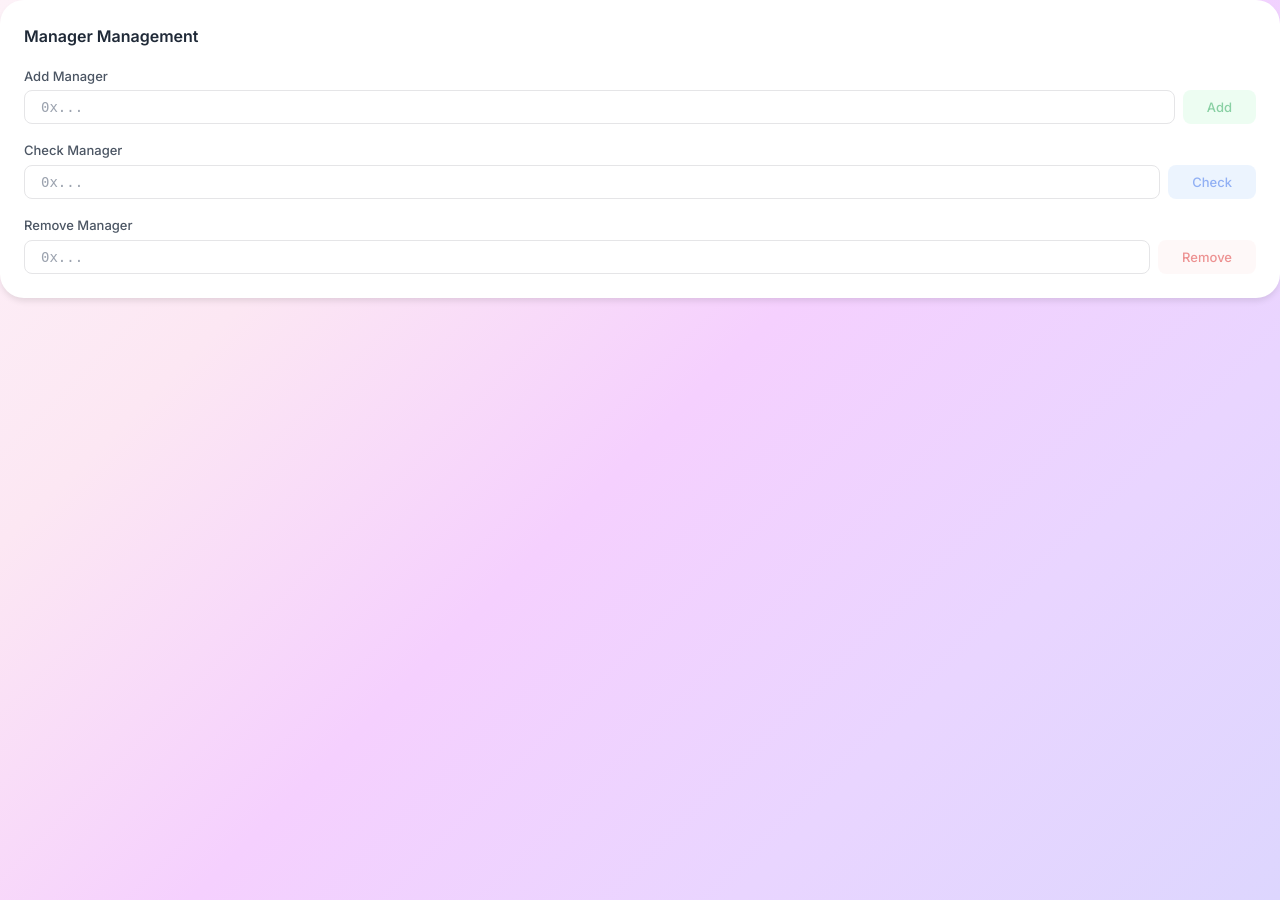
Test case: ManagerManagement › Add Manager › shows generic error message on other failures
This screenshot has width=1280, height=900.
Type "0x1234567890123456789012345678901234567890" into the field with placeholder "0x..." below "Add Manager" at (599, 107), box [24,90,1175,124]
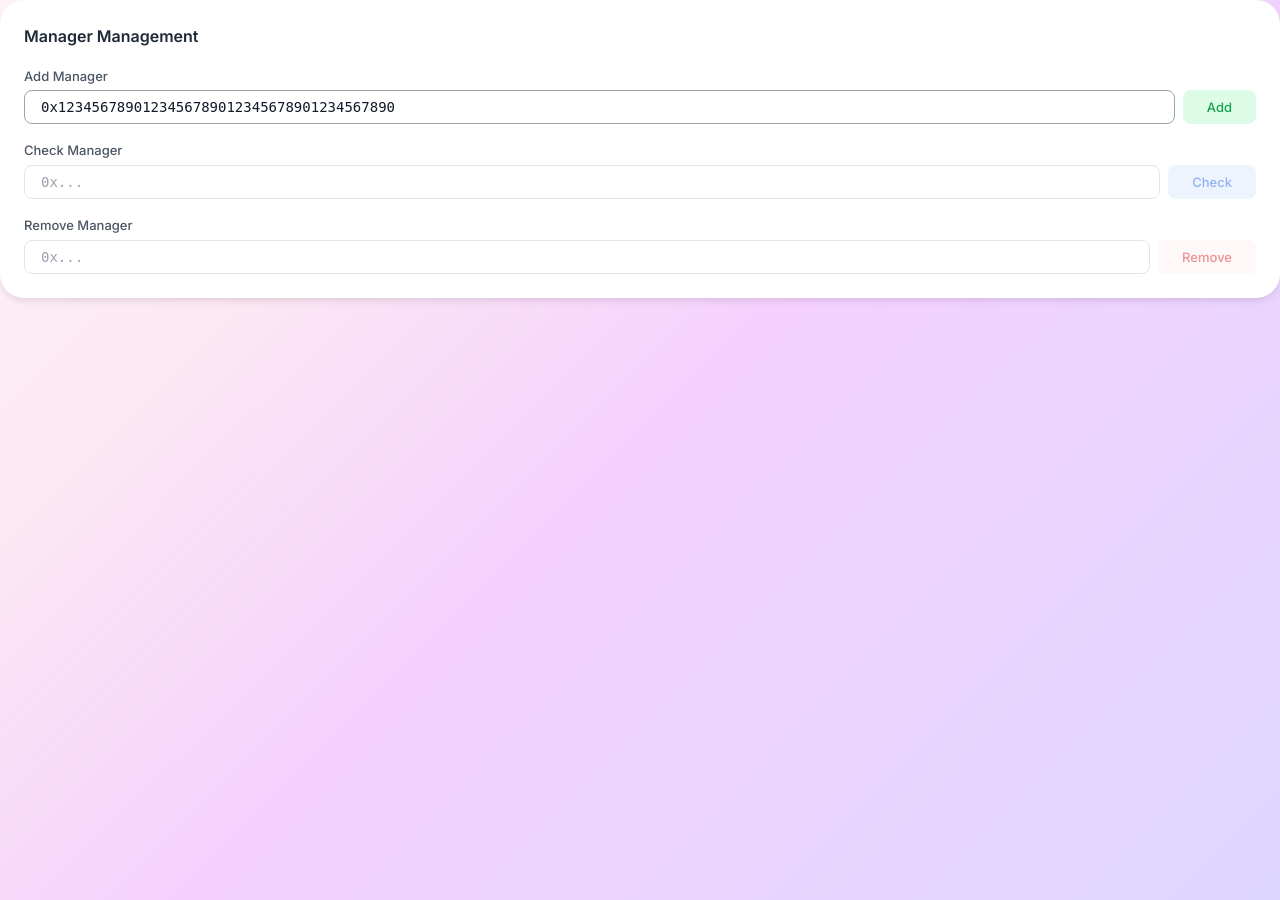
Click the button "Add" at (1219, 107), box [1183,90,1256,124]
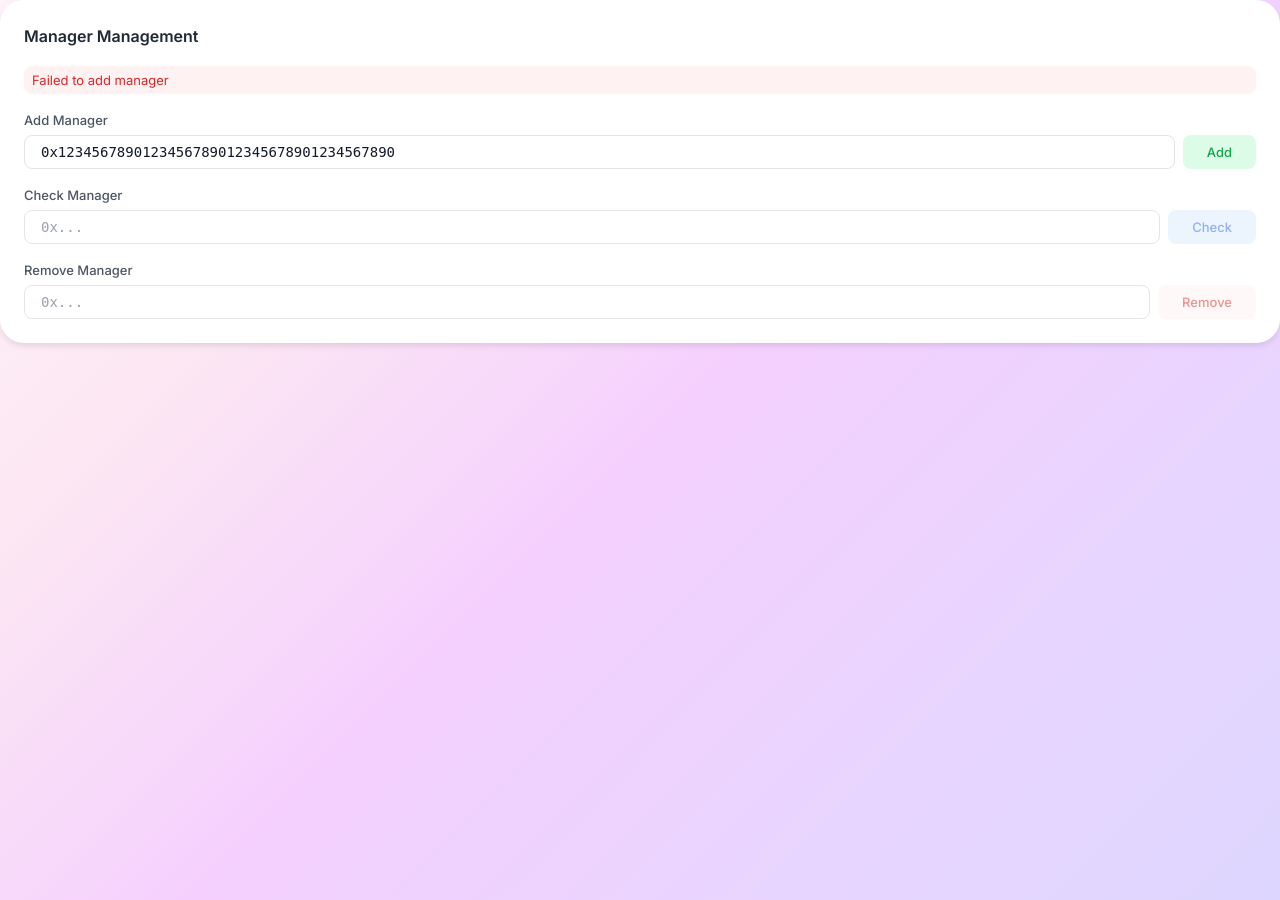
Expected: the text "Failed to add manager" is shown, [24,66,1256,94]
